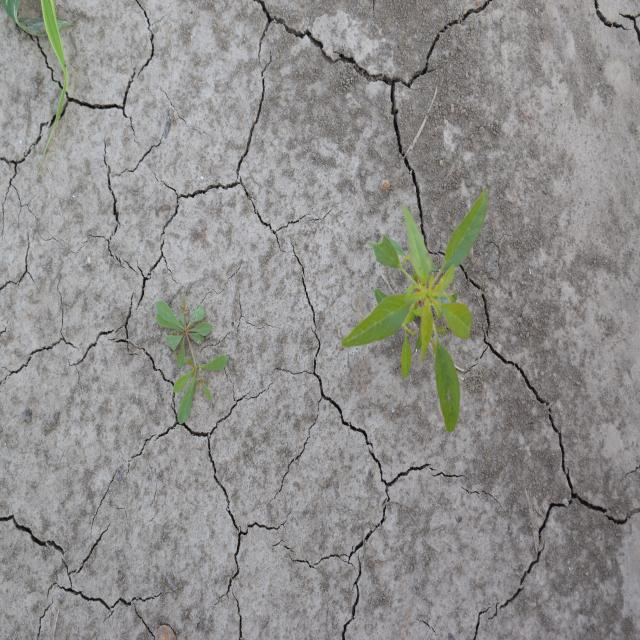Carpetweed: (153, 294, 230, 426)
Waterhemp: (340, 187, 490, 436)
